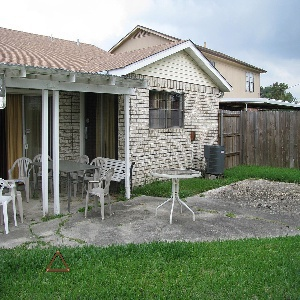triangle: (44, 248, 72, 275)
